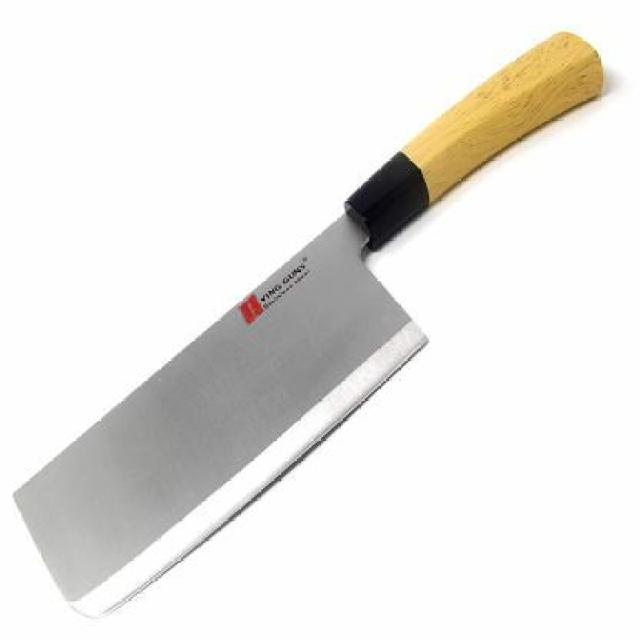knife: (6, 20, 446, 638)
